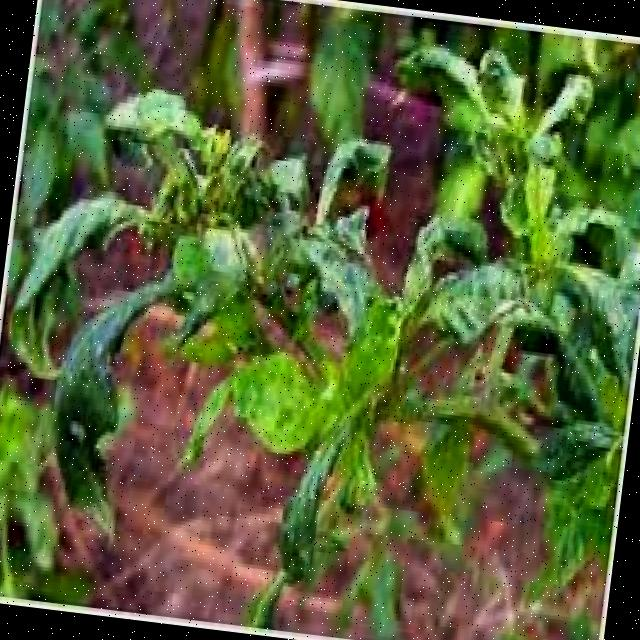leaf curl: (34, 61, 633, 626)
